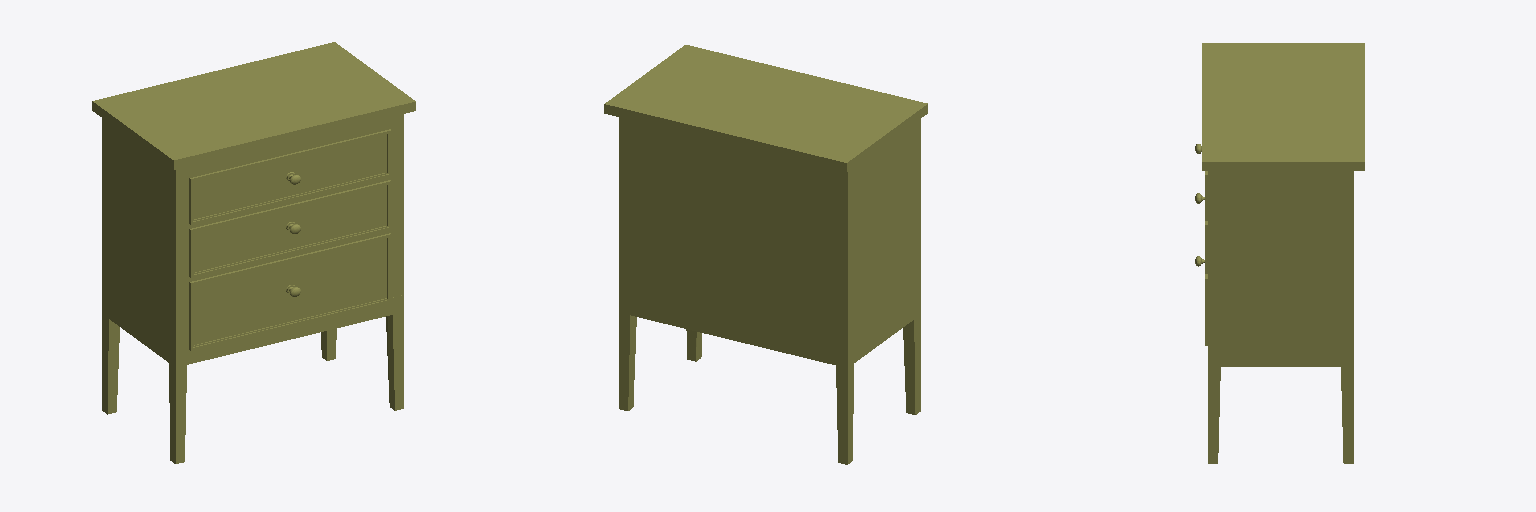
File: chest_drawer.obj
3 renders of one model, left to right at view 1: azimuth 30°, elevation 25°; view 2: azimuth 150°, elevation 25°; view 3: azimuth 270°, elevation 25°, orthographic.
Visible parts, largest first — view 1: Mesh4 Group3 Group1 Untitled__4_1 Model; view 2: Mesh4 Group3 Group1 Untitled__4_1 Model; view 3: Mesh4 Group3 Group1 Untitled__4_1 Model.
Boxes of the visible parts, x1=… form: Mesh4 Group3 Group1 Untitled__4_1 Model: x1=92, y1=42, x2=415, y2=463; Mesh4 Group3 Group1 Untitled__4_1 Model: x1=604, y1=45, x2=927, y2=464; Mesh4 Group3 Group1 Untitled__4_1 Model: x1=1202, y1=43, x2=1364, y2=463.
Bounding box in the file's own units: 26.25 × 31.75 × 15.91.